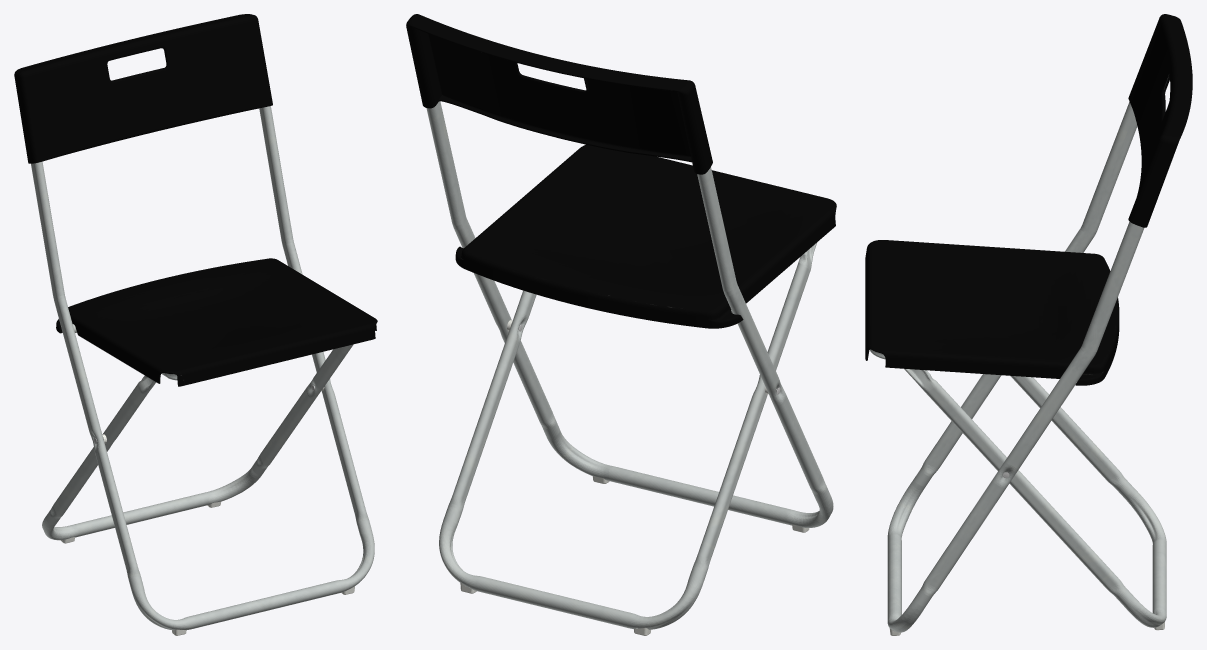
3 views of the same model, side by side, from view 1: azimuth 30°, elevation 25°; view 2: azimuth 150°, elevation 25°; view 3: azimuth 270°, elevation 25° (orthographic). The views are drawn at different scales.
Parts seen in each view (by area): view 1: world; view 2: world; view 3: world.
Part boxes in pixels (x1,y1,x2,y2): world: [14, 14, 377, 635]; world: [406, 14, 836, 635]; world: [865, 14, 1192, 635].
Size of the model in its own units: 0.41 by 0.78 by 0.45.
1 material, 1 textured.
